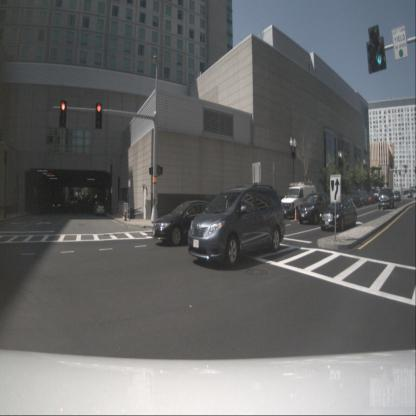movable_object-trafficcone: (293, 208, 298, 221)
vehicle-car: (188, 186, 285, 266), (152, 201, 224, 247), (280, 180, 317, 218), (320, 198, 357, 232), (298, 193, 330, 225), (345, 190, 360, 208), (357, 190, 368, 206), (94, 201, 105, 216), (372, 186, 382, 202), (366, 192, 376, 204), (392, 191, 400, 201), (408, 189, 413, 198)
vehicle-truck: (378, 188, 395, 210)
